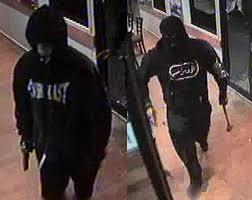weapon: (213, 94, 237, 139), (15, 138, 33, 173)
